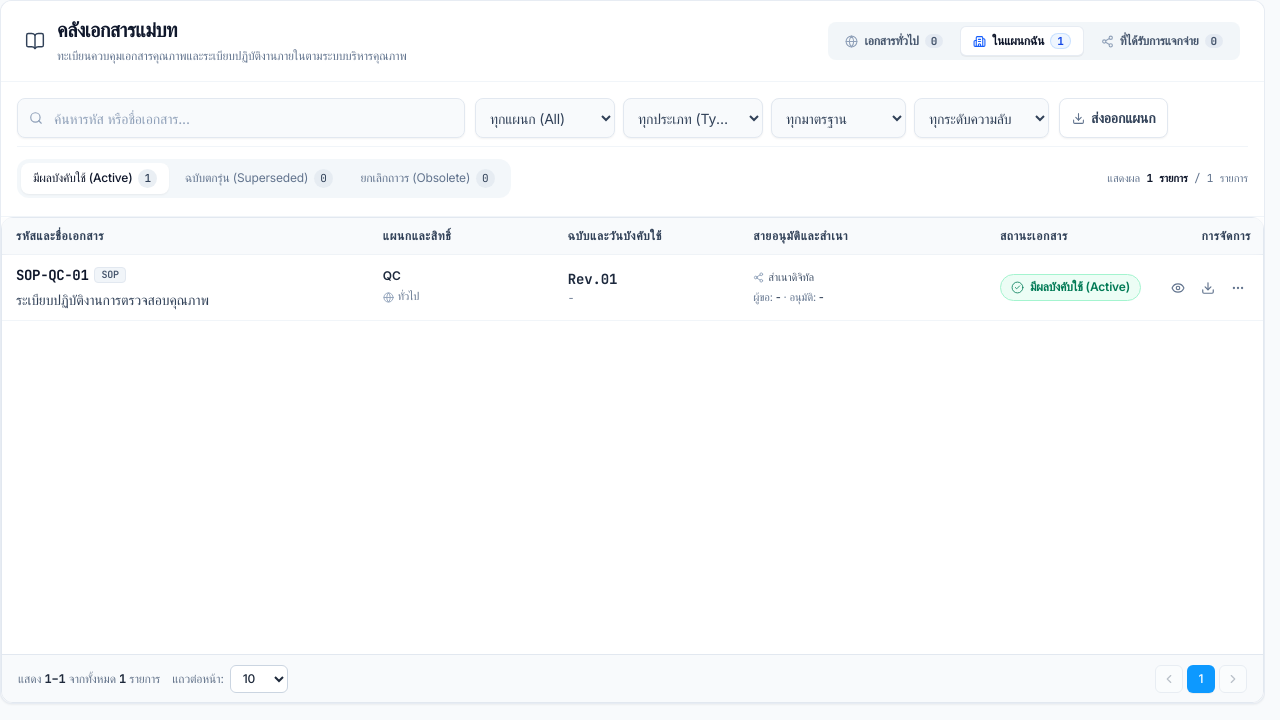
Strict Separation Between "ในแผนกฉัน" and "เอกสารทั่วไป" Scope Filtering › Criteria 1 & 2 & 3: When only SOP-QC-01 exists, "ในแผนกฉัน" badge is (1) and "เอกสารทั่วไป" badge is (0)
Check: the button "ในแผนกฉัน 1" is shown, box [960,26,1084,56]
Click the button "เอกสารทั่วไป 0".
click(894, 41)  # box [832,26,956,56]
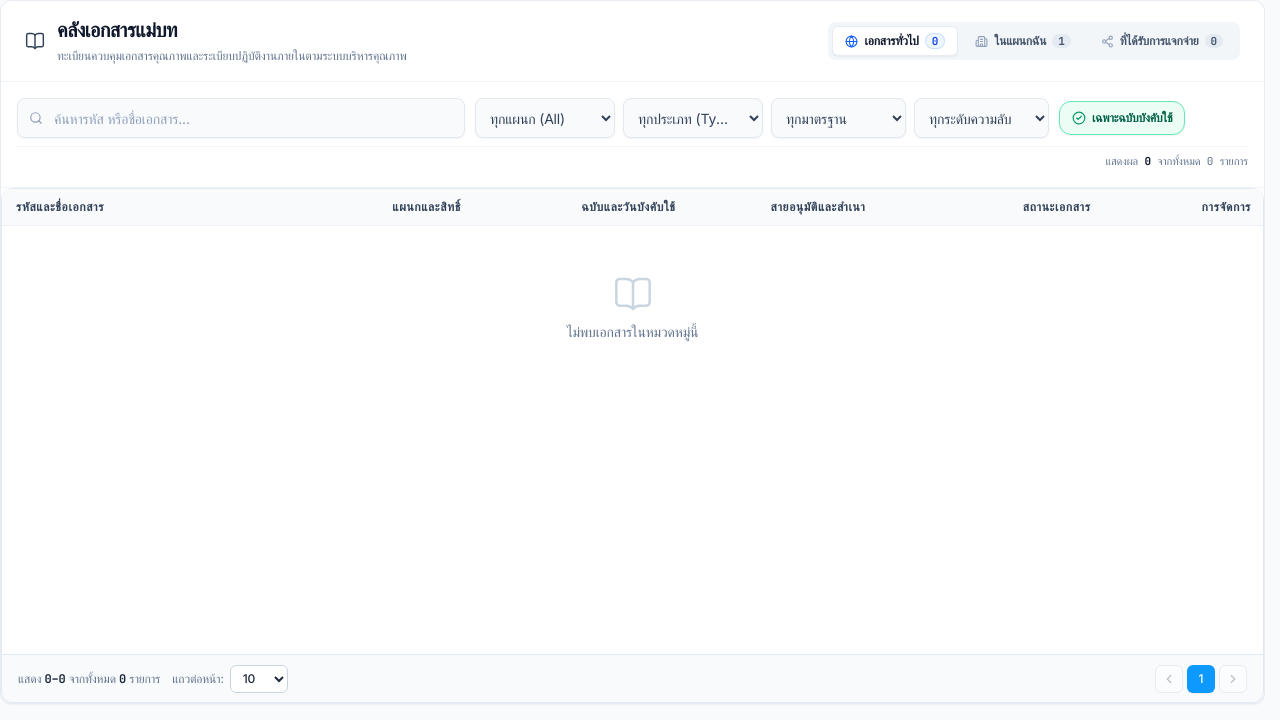
Check: the text "ระเบียบปฏิบัติงานการตรวจสอบคุณภาพ" is gone
Check: the text "SOP-QC-01" is gone
Click the button "ในแผนกฉัน 1".
click(1023, 41)  # box [962,26,1084,56]
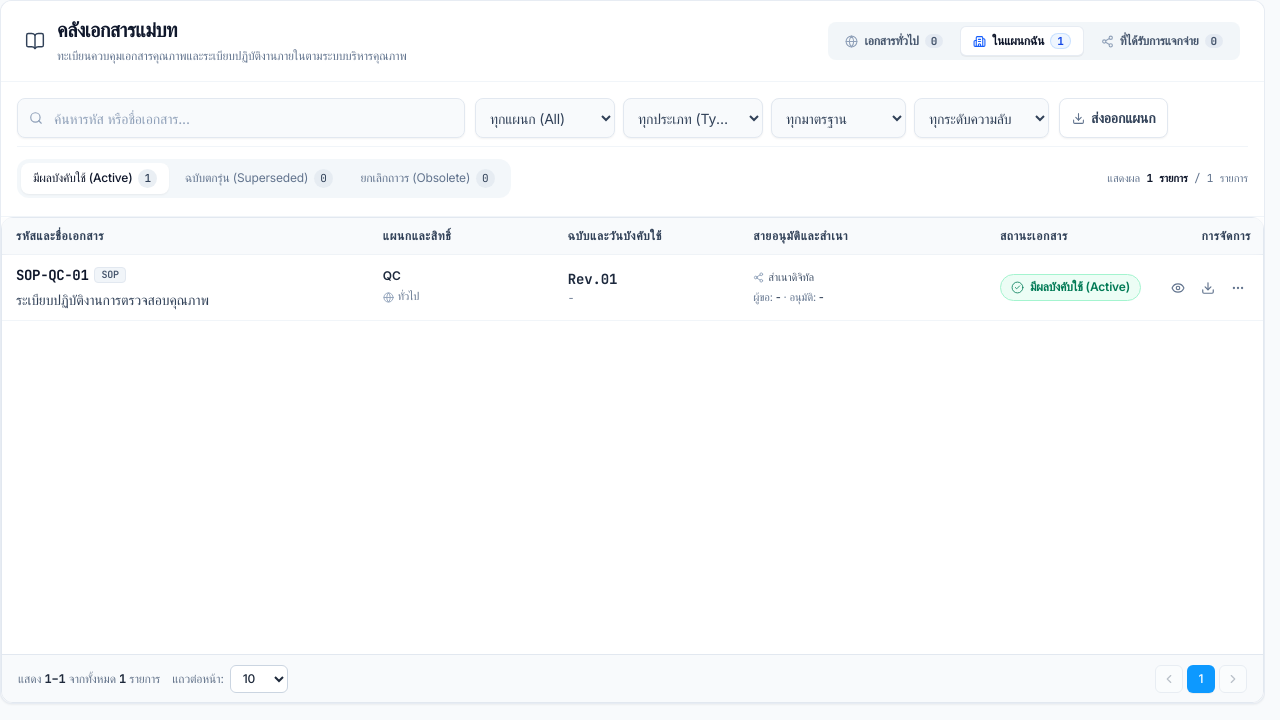
Check: the text "SOP-QC-01" is shown, box [16,265,88,285]
